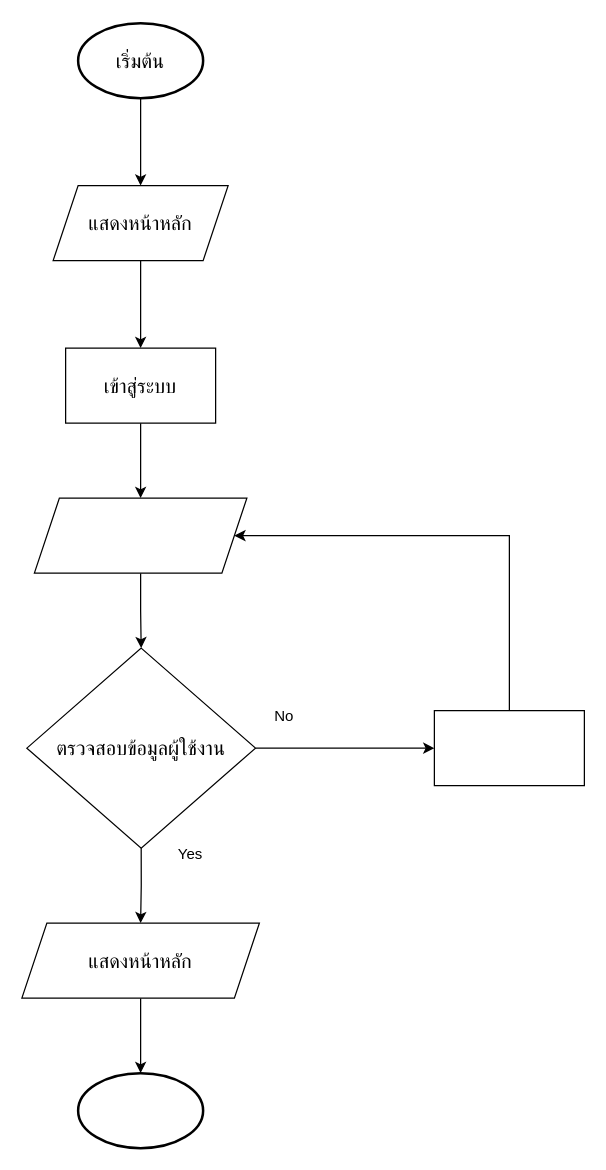
Image size: 606x1170. Some labels were removed from this diagram. The centre of each missing label's shape, as x and y in pixels:
"username หรือ password ผิด" belongs at (508,747).
"สิ้นสุด" belongs at (140,1110).
"แสดงหน้าเข้าสู่ระบบ" belongs at (140,535).
